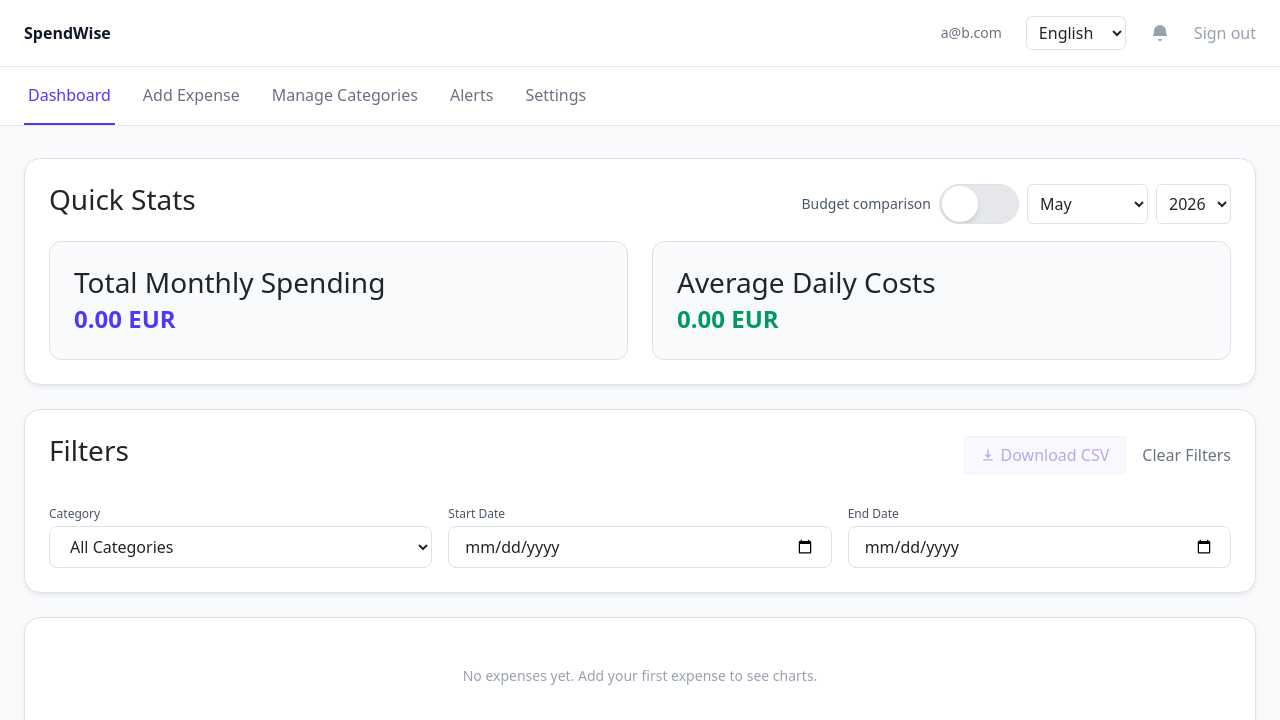
DashboardPage › switches to the Add Expense tab when its button is clicked
Click the button "Add Expense" at (191, 96), box [139,67,244,125]
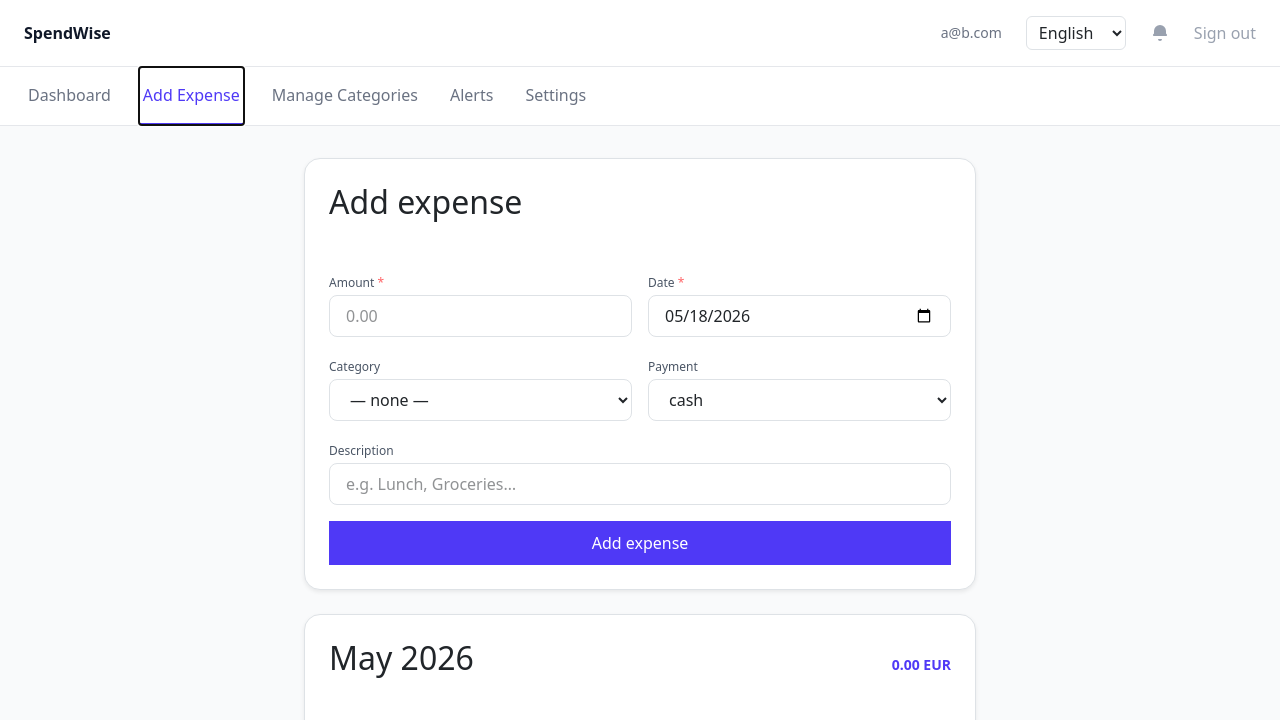
Now the heading "Add expense" is shown, box [329,180,522,223]
